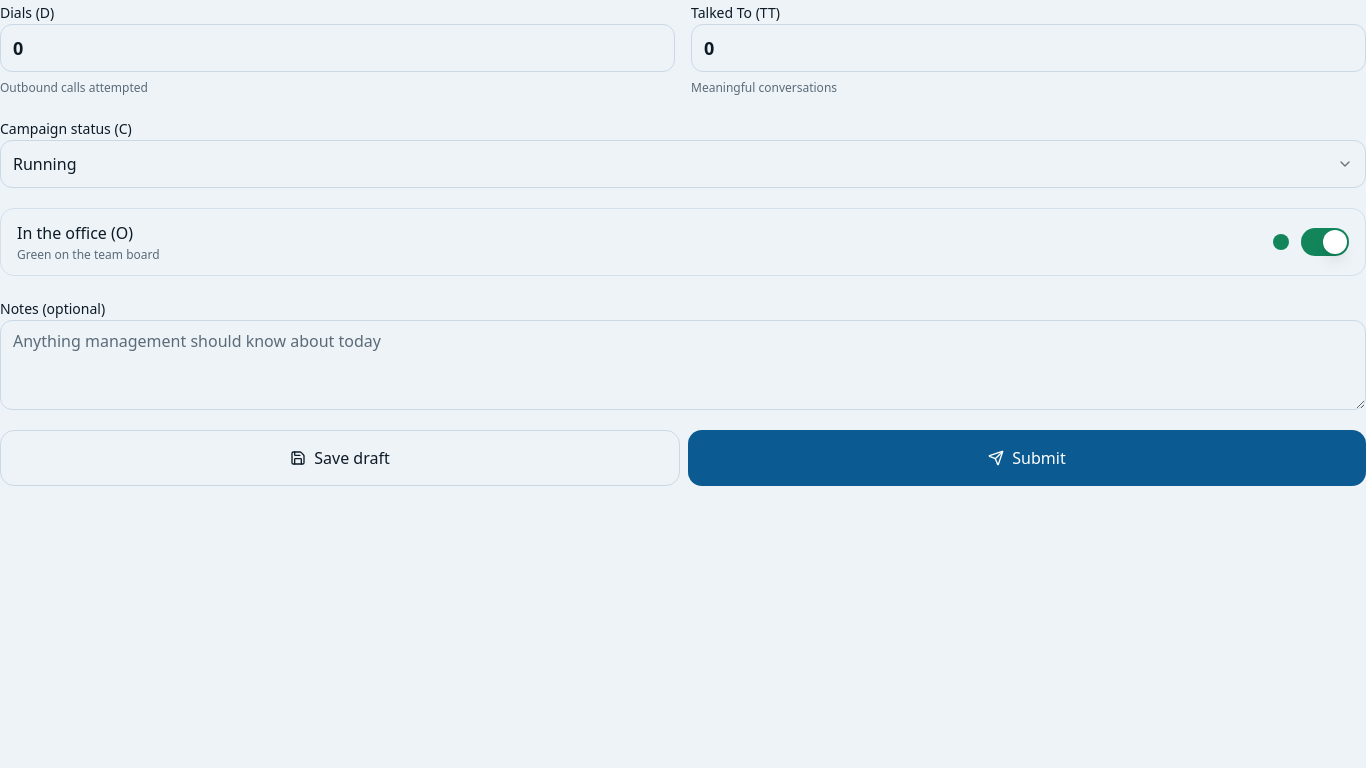
Scenario: daily form › shows the figures again in the confirmation before submitting
The width and height of the screenshot is (1366, 768).
Replace the text in the number field labelled "Dials (D)" with "33" at (338, 48), box [0,24,675,72]
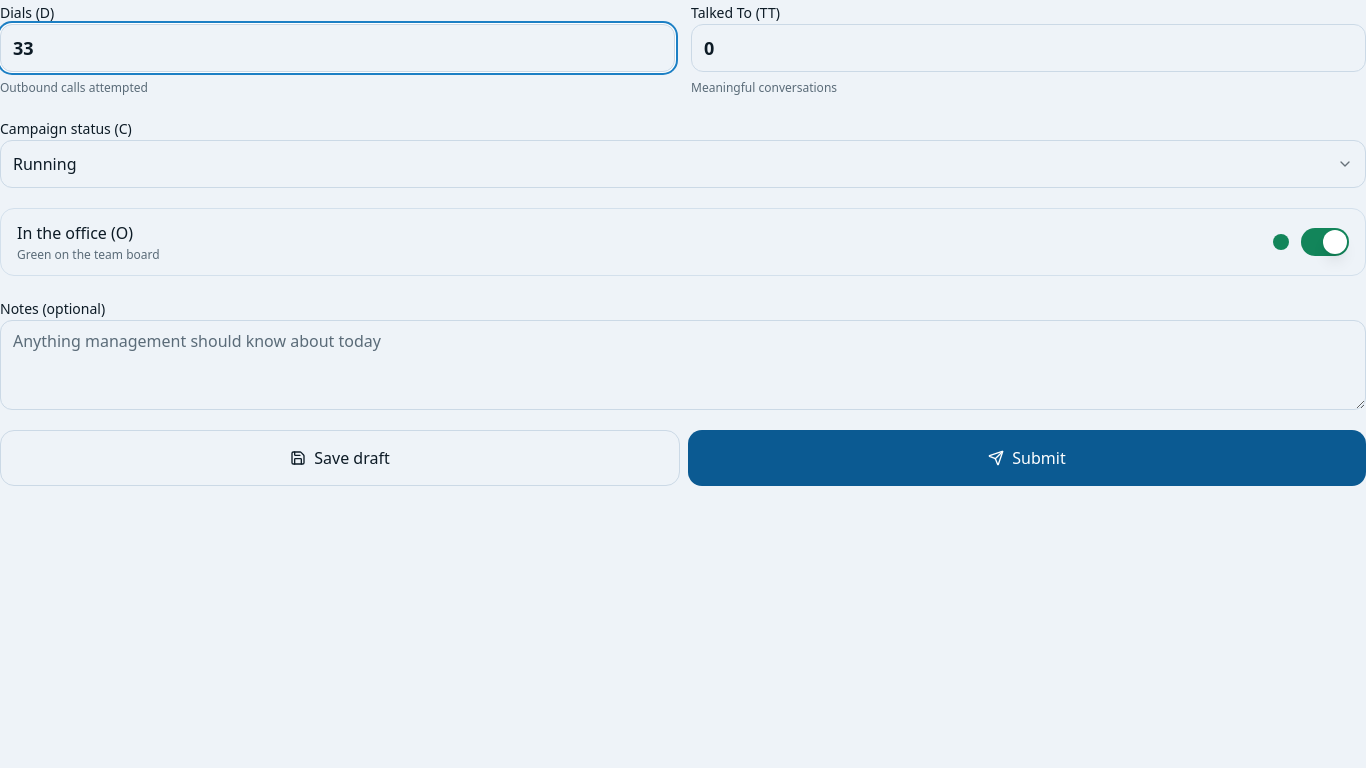
Click the button with test id "open-submit" at (1027, 458), box [688,430,1365,486]
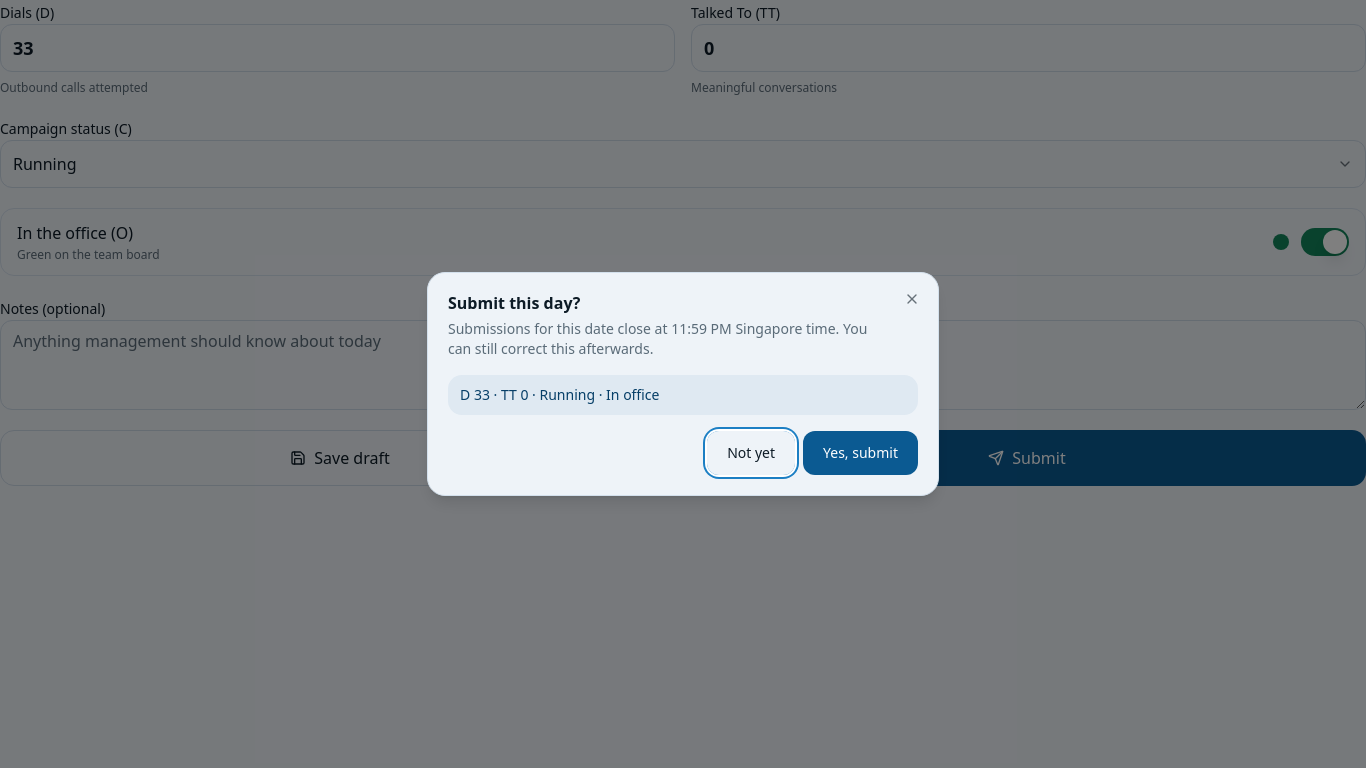
Expected: the dialog shows "D 33", [427,272,939,496]
